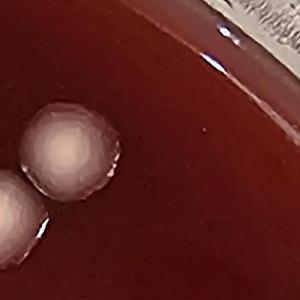colony: (14, 97, 126, 206), (0, 166, 55, 278)
